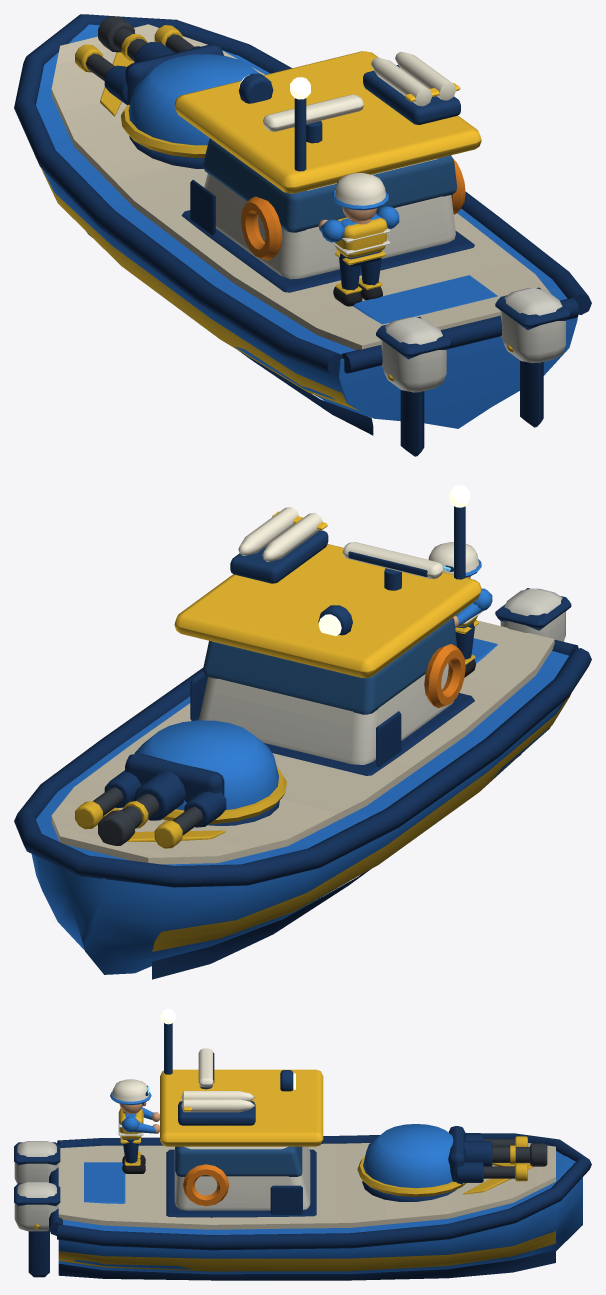
The model's file is boat.glb.
3 renders of one model, top to bottom at view 1: azimuth 30°, elevation 25°; view 2: azimuth 150°, elevation 25°; view 3: azimuth 270°, elevation 25°, orthographic. The views are drawn at different scales.
Parts seen in each view (by area): view 1: boat Kestrel navy, boat Sunflower, boat Kestrel sky, boat Cream, boat Warm white, boat Tinted glass, boat Turret Kestrel sky, boat SupportRack Warm white, boat Signal orange, boat SupportRack Kestrel navy, boat Radar Warm white, boat Turret Sunflower (+4 smaller); view 2: boat Kestrel navy, boat Sunflower, boat Kestrel sky, boat Cream, boat Warm white, boat Tinted glass, boat Turret Kestrel sky, boat SupportRack Warm white, boat SupportRack Kestrel navy, boat Turret Kestrel navy, boat Signal orange, boat SingleGun Gunmetal (+7 smaller); view 3: boat Kestrel navy, boat Cream, boat Sunflower, boat Kestrel sky, boat Warm white, boat Turret Kestrel sky, boat Tinted glass, boat SupportRack Warm white, boat Signal orange, boat SupportRack Kestrel navy, boat Turret Sunflower, boat SingleGun Gunmetal (+5 smaller).
Boxes of the visible parts, box(x1,y1,x2,y2) form: boat Kestrel navy: box(14, 14, 591, 456); boat Sunflower: box(35, 51, 513, 410); boat Kestrel sky: box(36, 24, 577, 428); boat Cream: box(51, 24, 550, 350); boat Warm white: box(204, 158, 565, 392); boat Tinted glass: box(203, 138, 457, 232); boat Turret Kestrel sky: box(128, 54, 259, 158); boat SupportRack Warm white: box(371, 51, 456, 106); boat Signal orange: box(241, 158, 465, 260); boat SupportRack Kestrel navy: box(363, 65, 460, 124); boat Radar Warm white: box(263, 94, 363, 131); boat Turret Sunflower: box(121, 104, 207, 157); boat Kestrel navy: box(14, 506, 591, 979); boat Sunflower: box(103, 544, 571, 951); boat Kestrel sky: box(31, 559, 568, 974); boat Cream: box(51, 620, 554, 864); boat Warm white: box(199, 542, 565, 764); boat Tinted glass: box(203, 618, 457, 714); boat Turret Kestrel sky: box(134, 720, 278, 824); boat SupportRack Warm white: box(238, 507, 322, 561); boat SupportRack Kestrel navy: box(230, 530, 328, 583); boat Turret Kestrel navy: box(125, 753, 224, 819); boat Signal orange: box(424, 644, 465, 708); boat SingleGun Gunmetal: box(98, 794, 158, 845); boat Kestrel navy: box(14, 1023, 591, 1280); boat Cream: box(58, 1143, 555, 1229); boat Sunflower: box(34, 1069, 555, 1271); boat Kestrel sky: box(58, 1091, 582, 1274); boat Warm white: box(14, 1079, 310, 1231); boat Turret Kestrel sky: box(363, 1124, 453, 1197); boat Tinted glass: box(175, 1146, 302, 1176); boat SupportRack Warm white: box(181, 1091, 255, 1112); boat Signal orange: box(183, 1164, 229, 1206); boat SupportRack Kestrel navy: box(178, 1101, 255, 1125); boat Turret Sunflower: box(357, 1156, 466, 1196); boat SingleGun Gunmetal: box(492, 1143, 547, 1166).
Bounding box in the file's own units: 2.29 × 2.47 × 5.37.
Materials: 13 (10 with a texture image).
